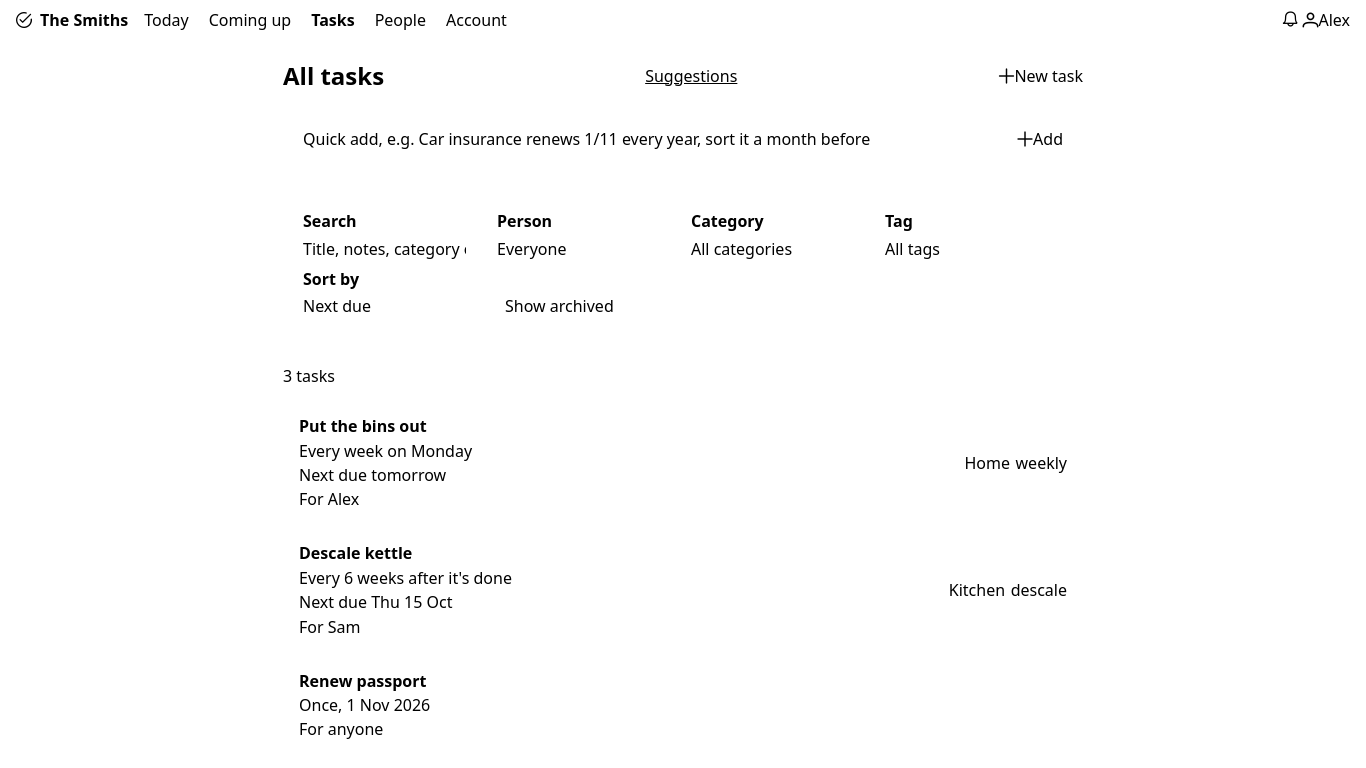
it: All tasks › shows archived tasks on request
Click the checkbox with id "show-archived": point(559, 306) [505,295,614,317]
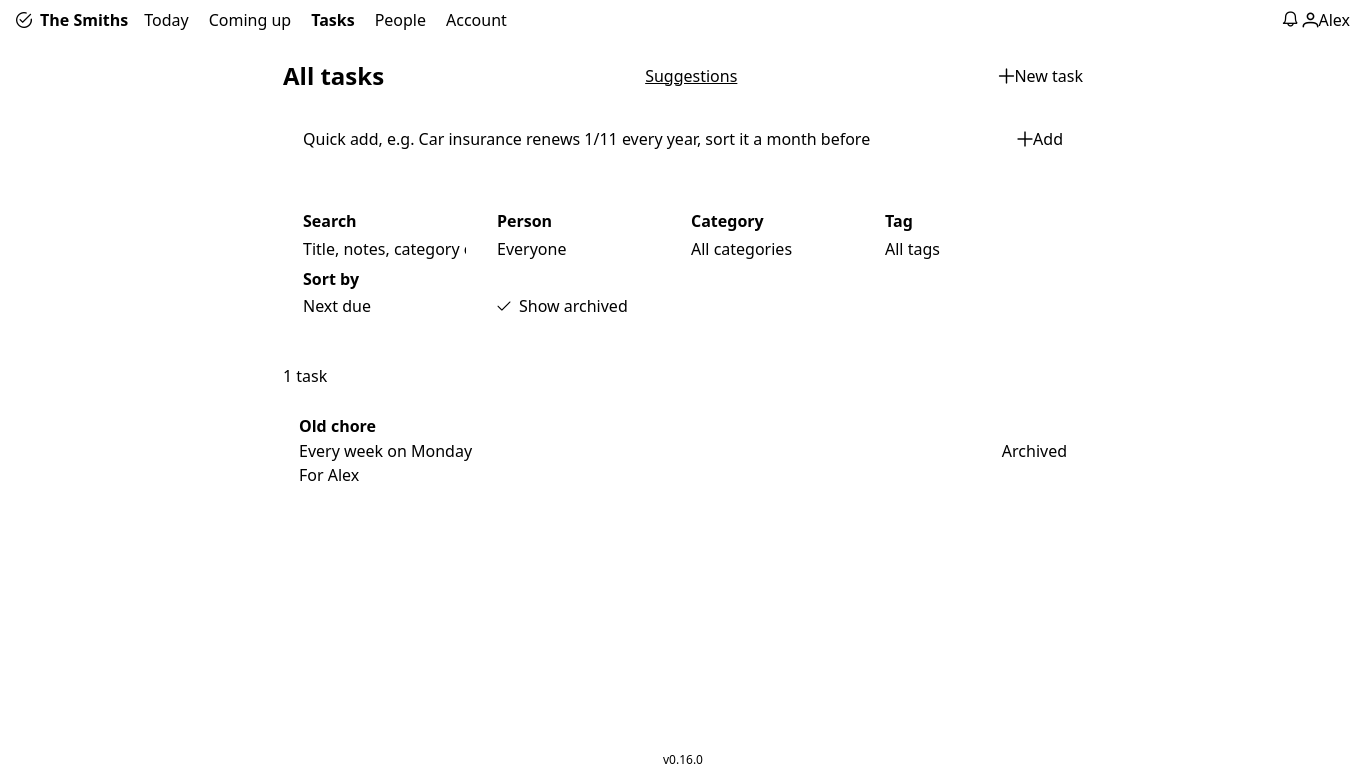
Expected: the list item with class "task-row" shows "Archived", [1002,440,1067,462]
